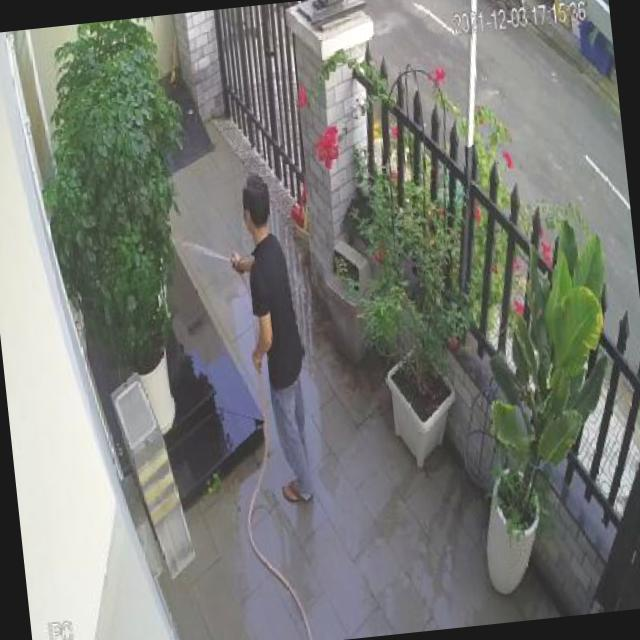Person: (221, 168, 319, 508)
